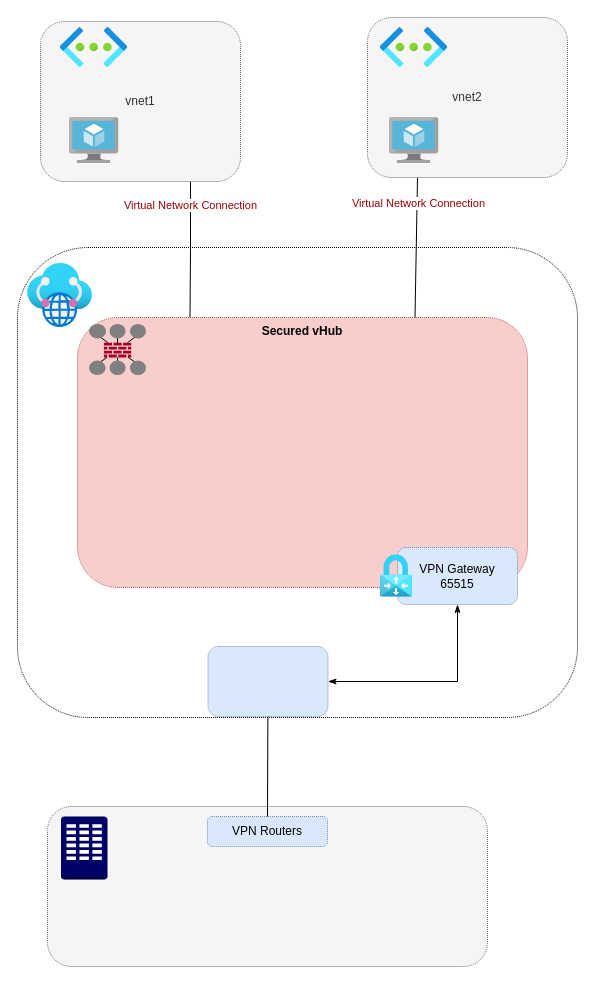
The diagram is 595 pixels wide and 984 high, and some of its shapes have lost their labels. The shapes that lost their labels are listed below. From the top down, each one's box as (x1, y1, x2, y2) in pixels, then its label:
(16, 246, 578, 718): vwan
(207, 646, 328, 716): VPN Site
